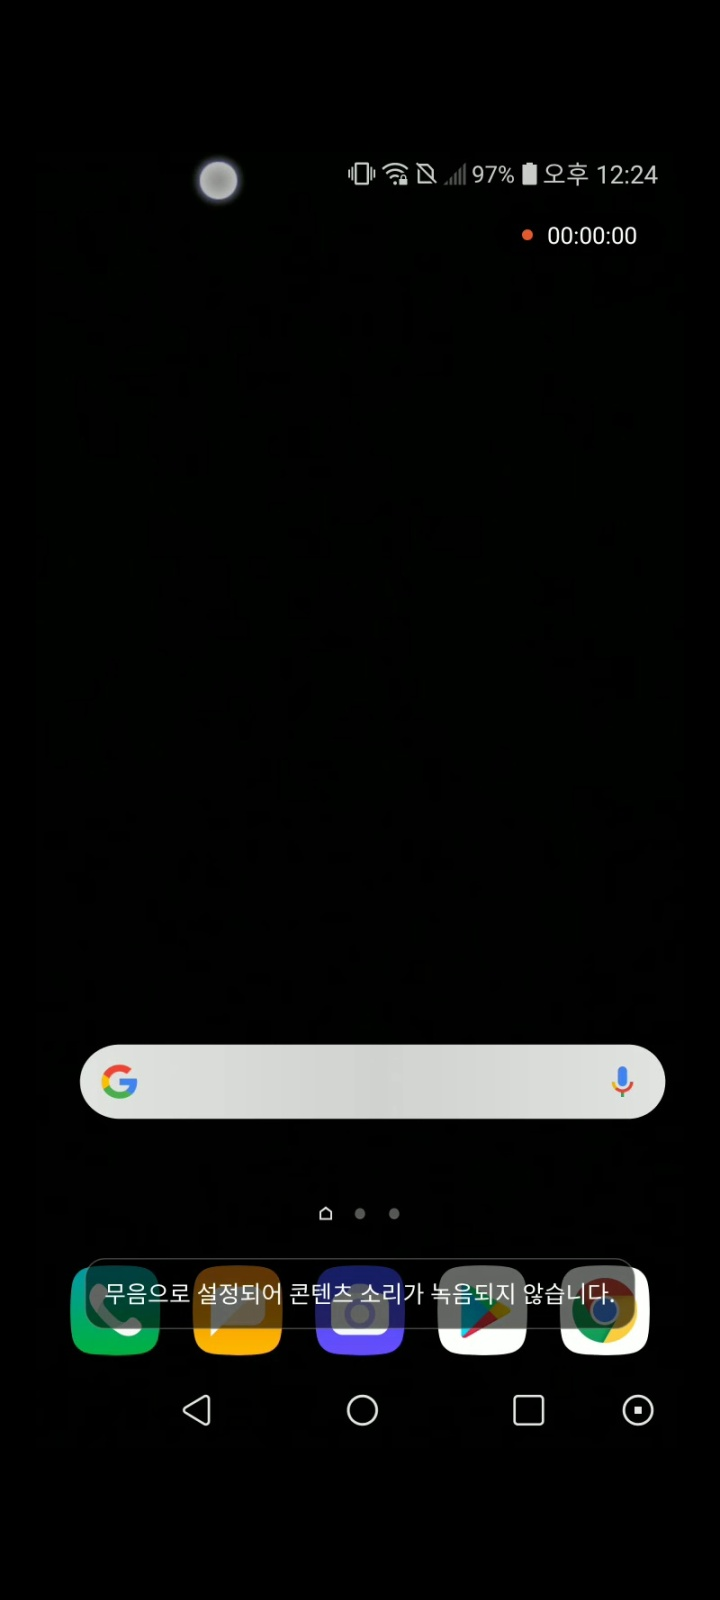Cursor: (196, 159, 241, 204)
